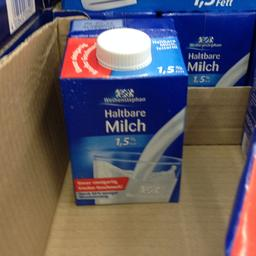milk: (58, 18, 188, 210), (166, 10, 255, 86)
